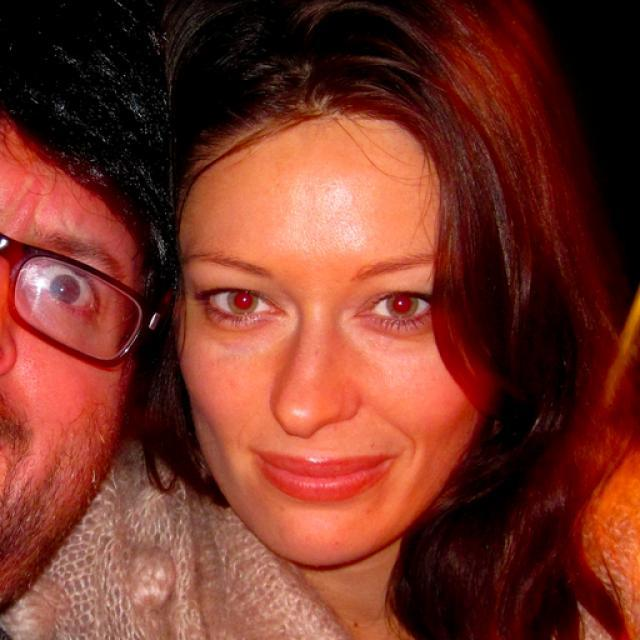content: (174, 107, 507, 568), (0, 106, 162, 631)
